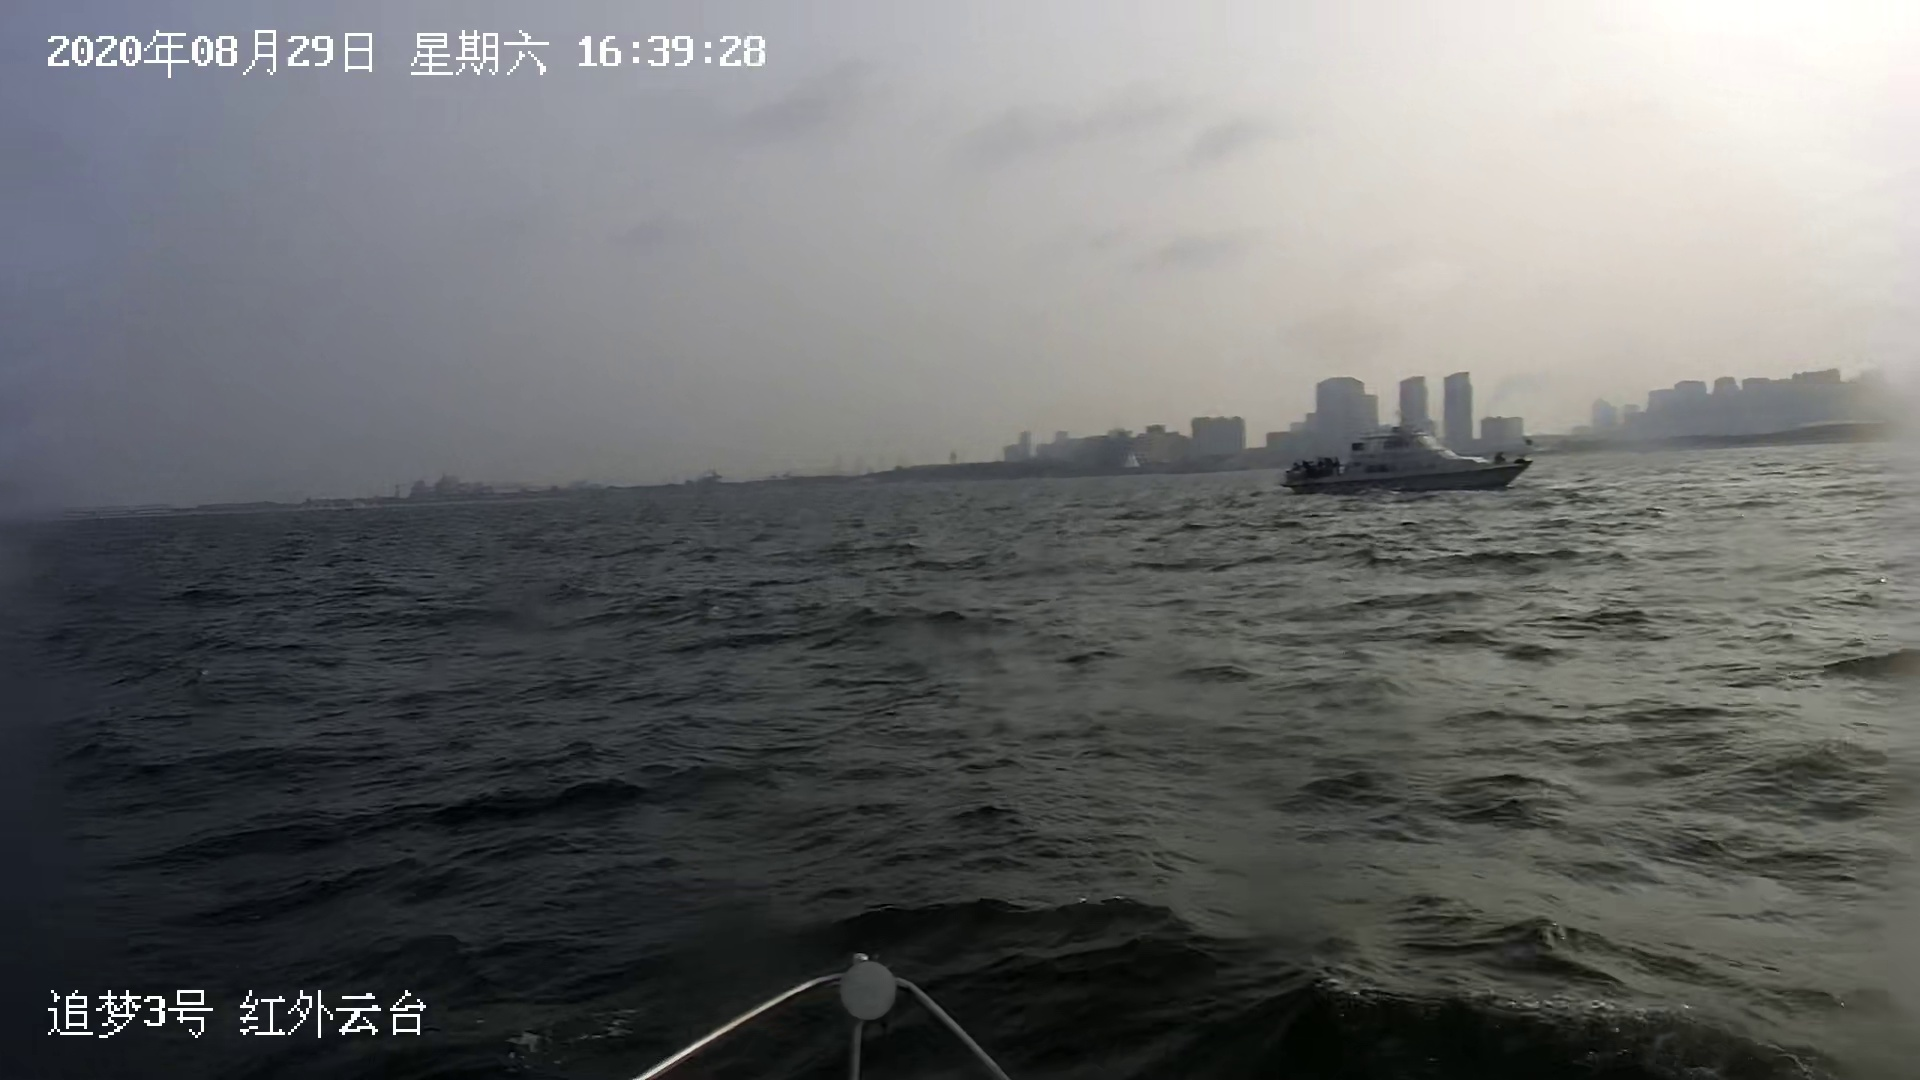barrier: (1284, 423, 1534, 492)
coast: (47, 345, 1920, 516)
